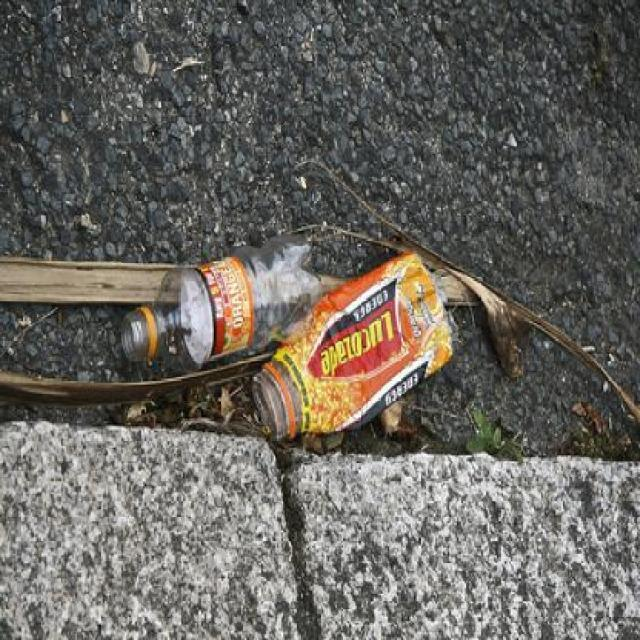garbage: (113, 229, 462, 440)
